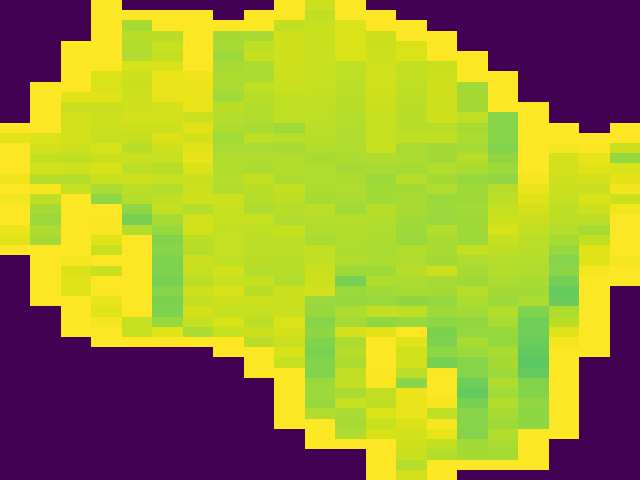car_0027: (1, 3, 640, 480)
